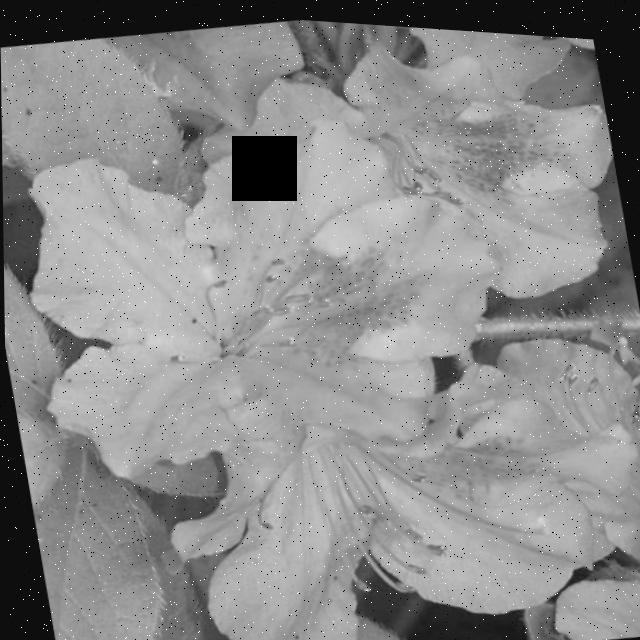azalea: (139, 275, 600, 640), (20, 109, 454, 481), (241, 13, 610, 293)
